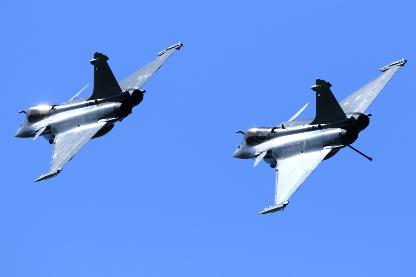RQ4: (231, 57, 408, 214), (13, 40, 183, 181)
